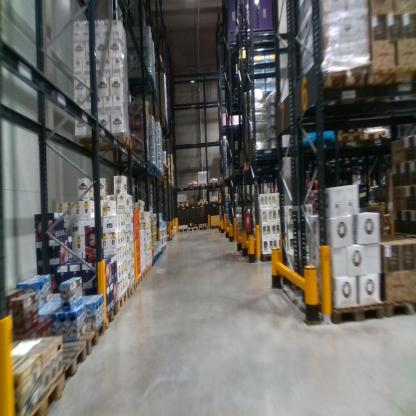pallet: (295, 64, 374, 120), (306, 297, 385, 332), (31, 340, 89, 383), (360, 66, 416, 100), (72, 129, 133, 157), (27, 374, 64, 415), (69, 317, 106, 355), (381, 293, 415, 320), (127, 75, 158, 98), (365, 129, 396, 148), (102, 302, 119, 330), (339, 131, 369, 146), (126, 277, 138, 297), (118, 290, 128, 310), (133, 272, 144, 290), (144, 261, 153, 273), (198, 223, 209, 231), (188, 183, 199, 191), (188, 200, 199, 208), (187, 224, 199, 231), (177, 227, 188, 233), (209, 180, 220, 186), (198, 183, 209, 189), (207, 199, 220, 204), (210, 224, 220, 230), (143, 265, 148, 276), (177, 203, 188, 208), (199, 200, 209, 205), (176, 200, 188, 204)
